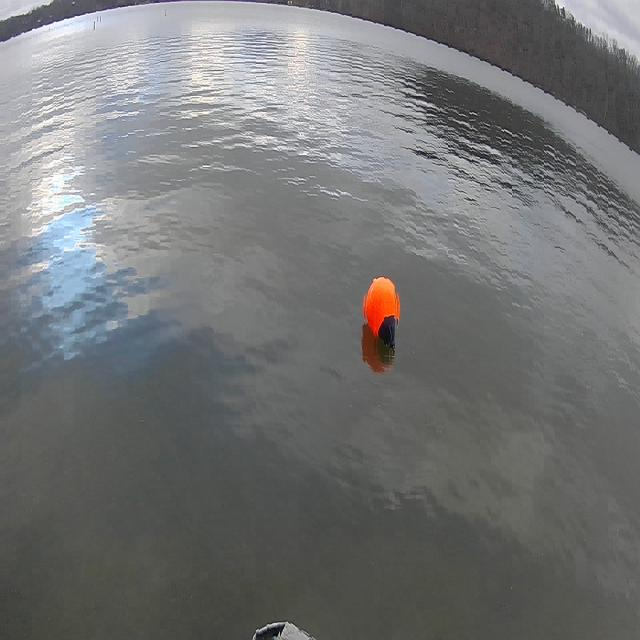Buoy: (357, 266, 413, 370)
